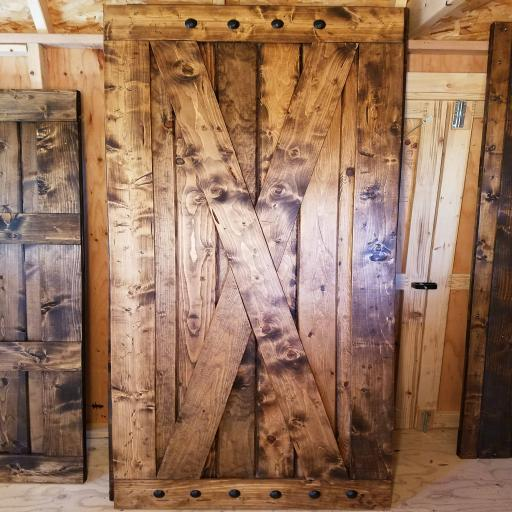Door: (102, 3, 406, 512), (0, 88, 85, 484)
